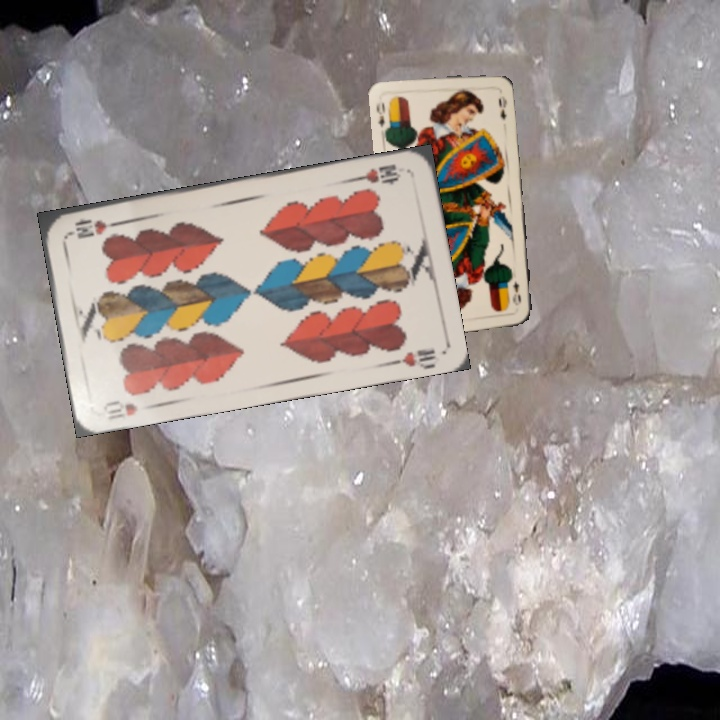EO: (372, 98, 388, 130), (509, 278, 523, 308)
H10: (350, 160, 403, 187), (99, 396, 141, 423)
